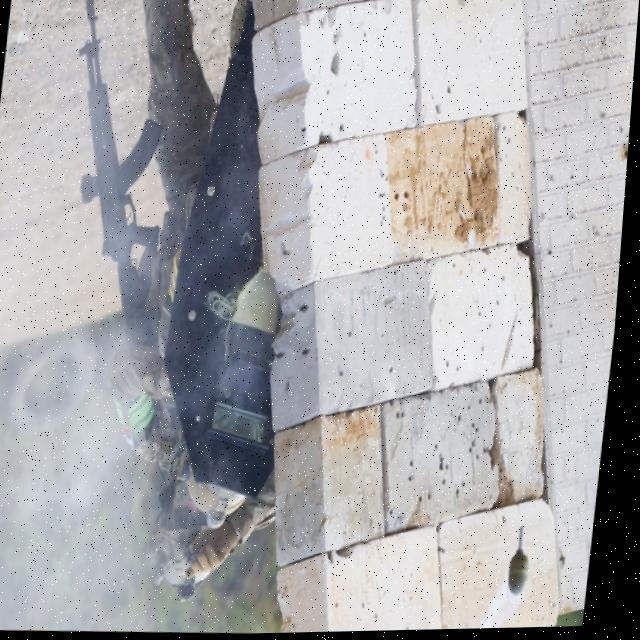firearm: (48, 0, 183, 334)
